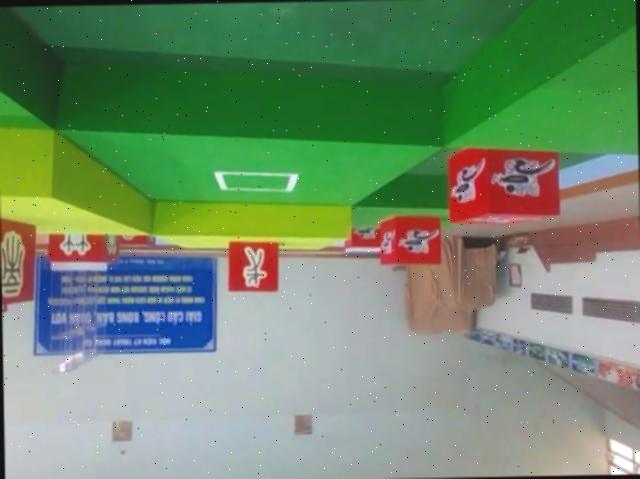R1: (449, 144, 560, 224), (376, 212, 443, 267)
R2 Fake: (0, 209, 36, 304), (226, 240, 279, 292)
